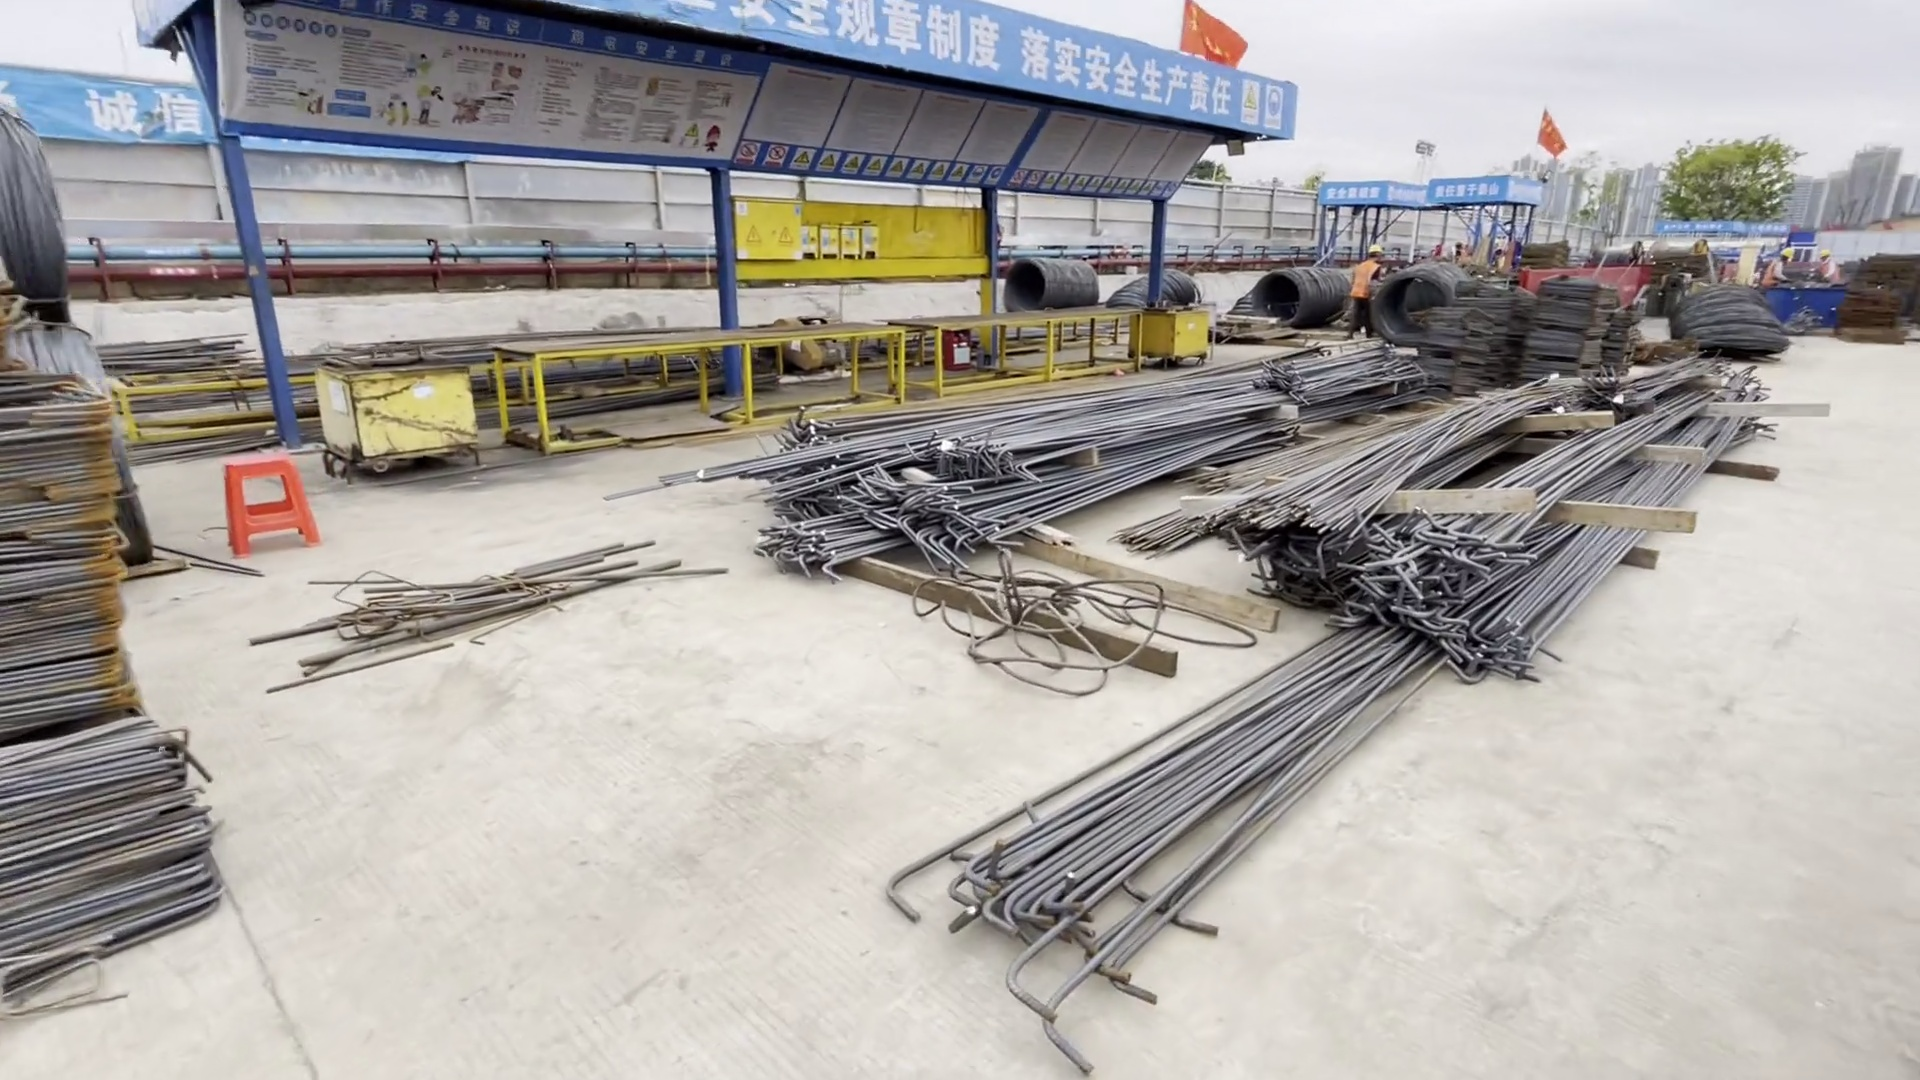ebox: (724, 198, 901, 265)
helmet: (1367, 243, 1381, 253)
person: (1349, 245, 1381, 331), (1761, 247, 1796, 292), (1815, 249, 1839, 293)
rebar: (889, 366, 1791, 1057), (708, 343, 1430, 556)
slogan: (832, 23, 1233, 126), (1427, 183, 1499, 200), (1322, 184, 1382, 199)
vest: (1350, 258, 1377, 298)
